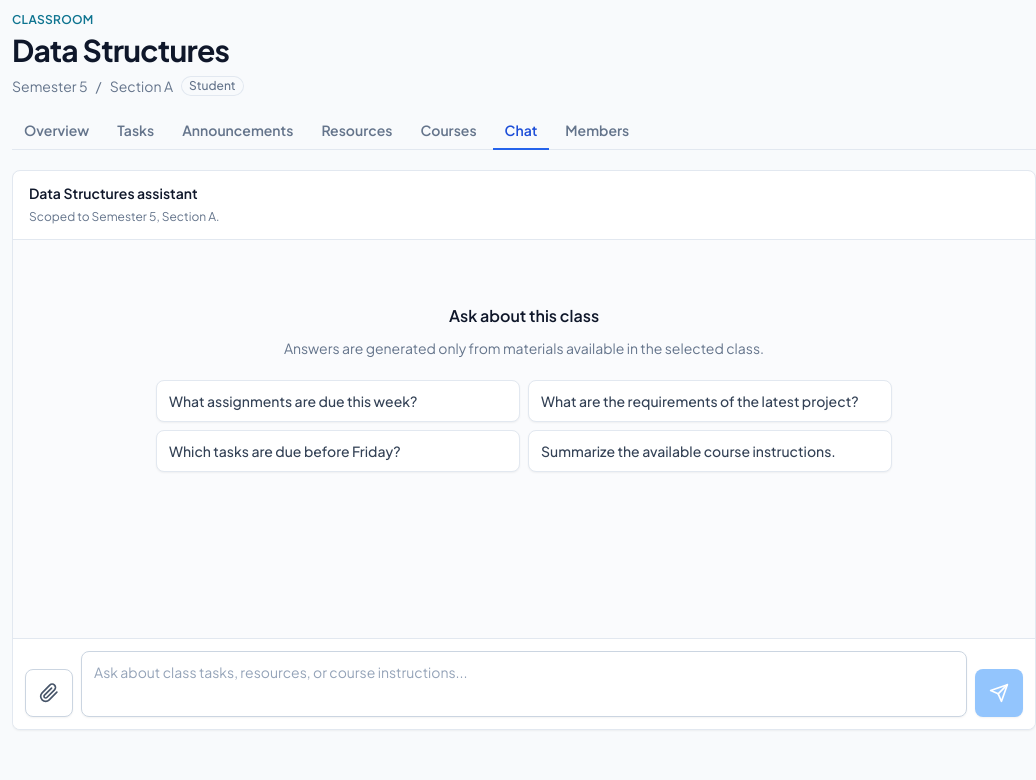
Test case: ClassChatPage › sends a normal chat message and hides the sources section when none are returned
This screenshot has width=1036, height=780.
Type "What is due?" into the text box with placeholder "Ask about class tasks, resources, or course instructions...".
click(524, 684); type("What is due?")  # box [81,651,967,717]
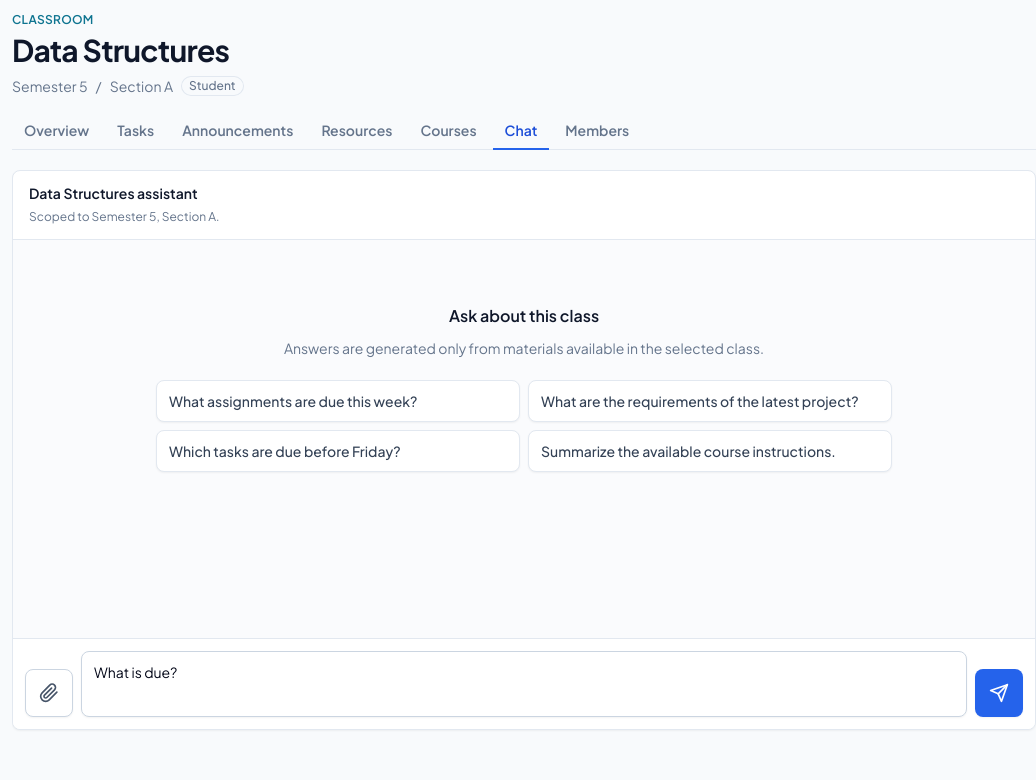
Click the button named "Send message".
click(999, 693)  # box [975,669,1023,717]
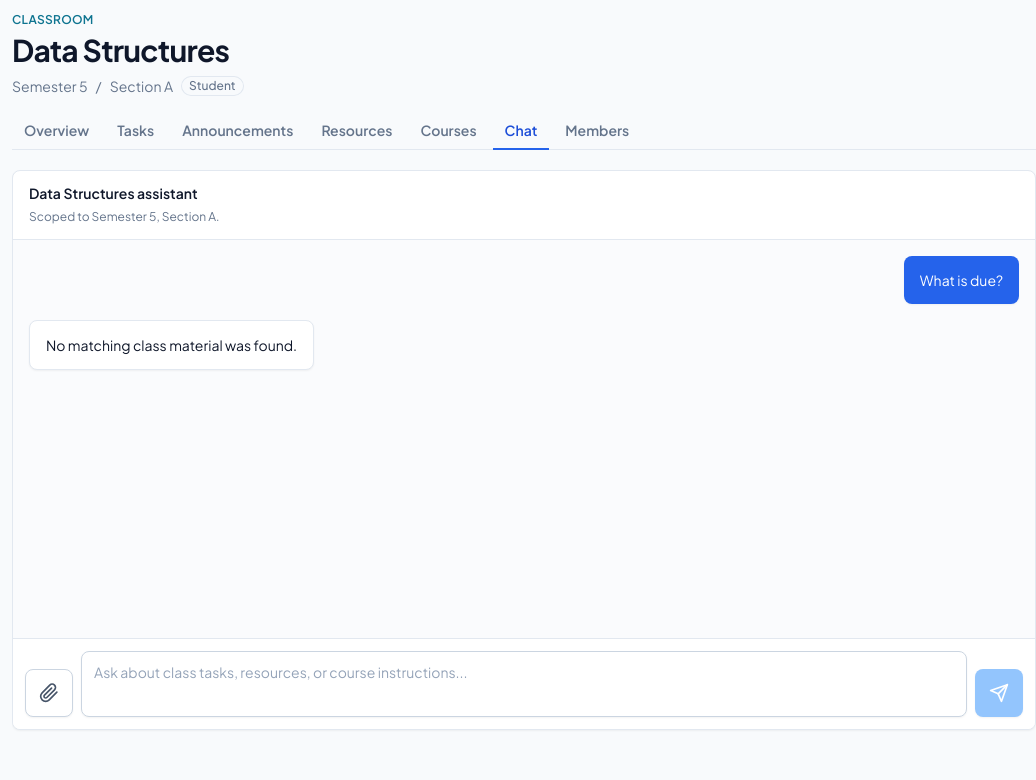
Check: the text "No matching class material was found." is shown, box [46,333,297,357]
